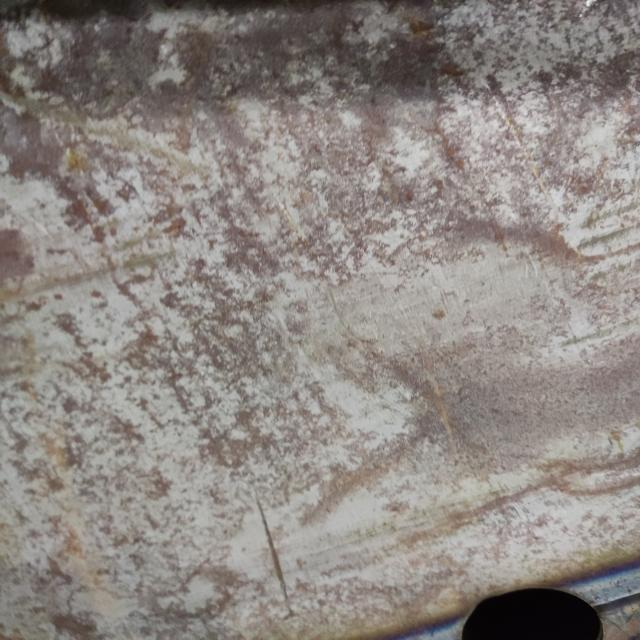seam: (346, 552, 640, 640)
